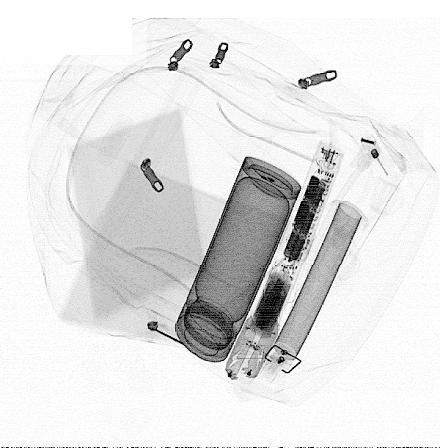Baton: (224, 138, 346, 384)
